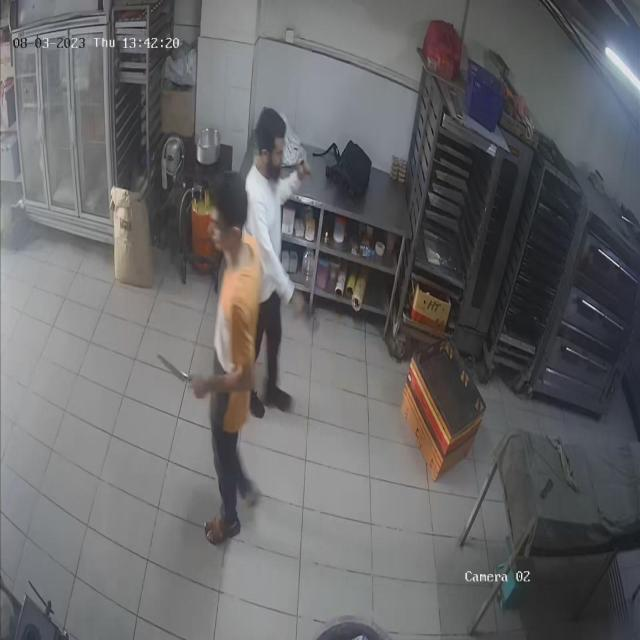Knife: (155, 345, 197, 387)
